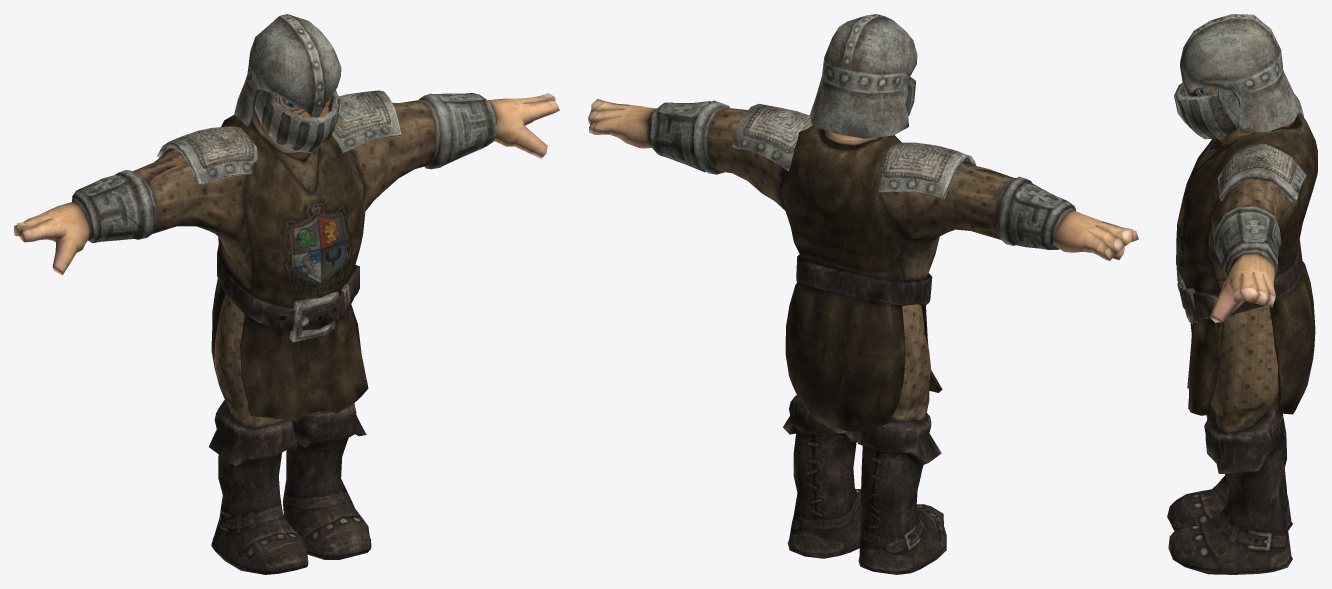
File: armorshop.obj
The picture shows the model from 3 angles, left to right: view 1: azimuth 30°, elevation 25°; view 2: azimuth 150°, elevation 25°; view 3: azimuth 270°, elevation 25°; orthographic projection.
Visible parts, largest first — view 1: Guard03_Mesh; view 2: Guard03_Mesh; view 3: Guard03_Mesh.
Boxes of the visible parts, <box> form: Guard03_Mesh: <box>14,14,559,574</box>; Guard03_Mesh: <box>588,14,1138,574</box>; Guard03_Mesh: <box>1167,14,1317,574</box>.
Bounding box in the file's own units: 2.33 × 2.18 × 0.5645.
